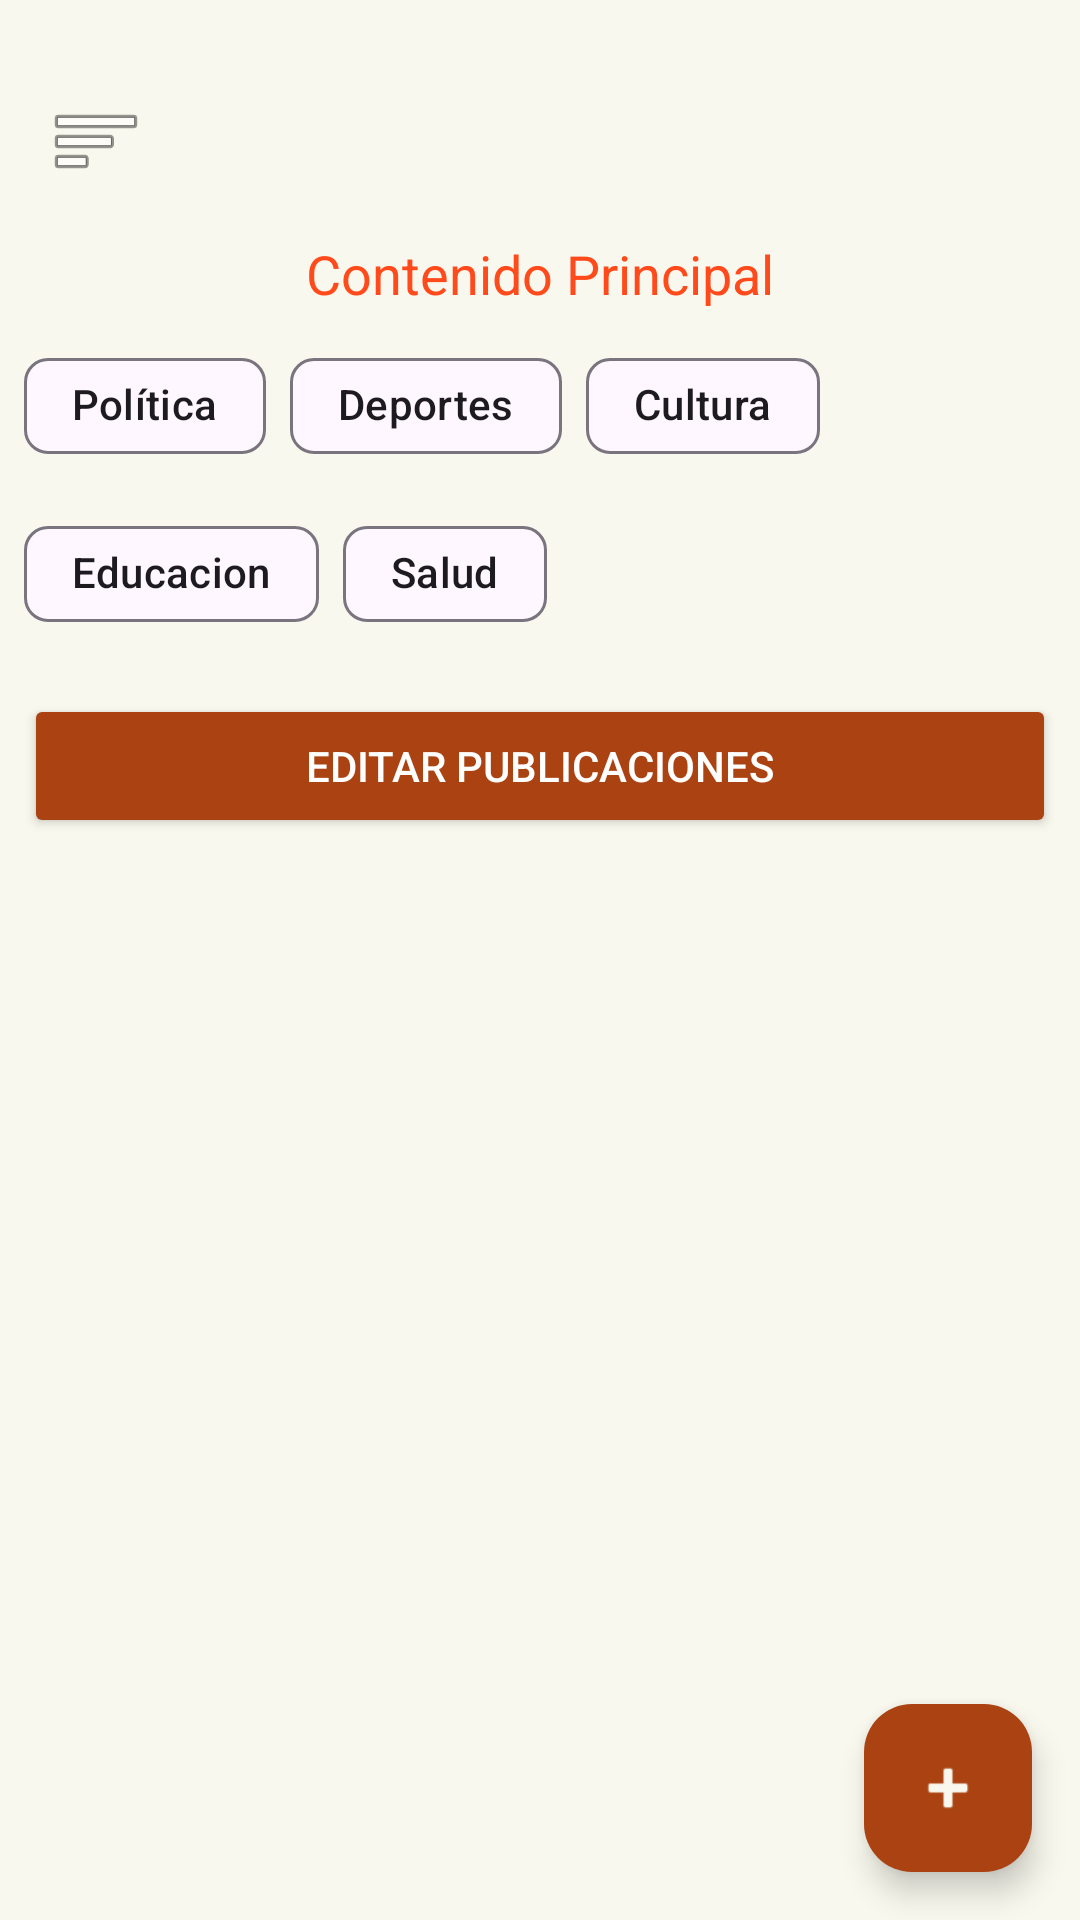

Icon bounding boxes for this 1080 × 1920 phone screenshot, format (x1, y1, x2, y2):
Agregar publicación: (864, 1704, 1032, 1872)
Menú: (55, 115, 137, 168)
